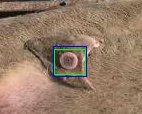text: (54, 49, 85, 74)
